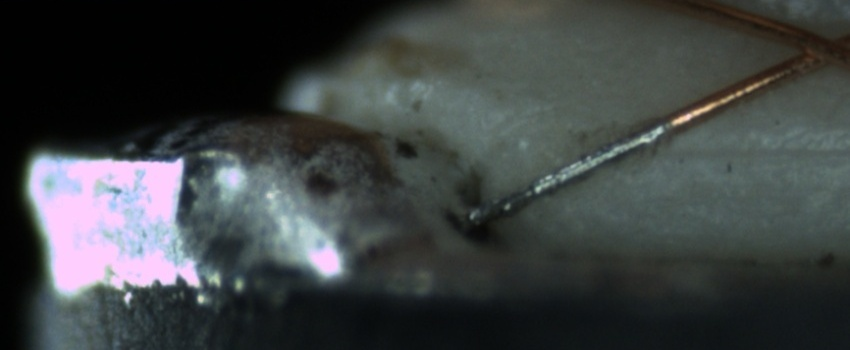CL: (771, 17, 847, 78)
DL: (644, 116, 850, 187)
TS: (457, 123, 661, 229)
